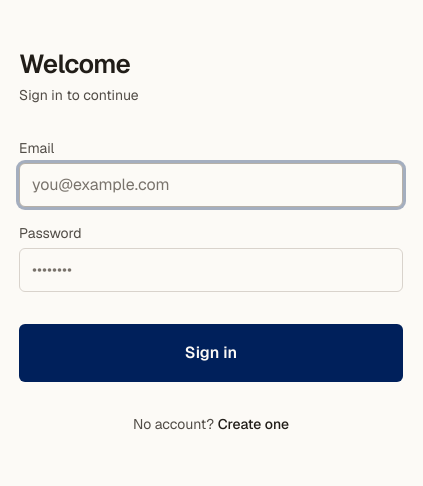
Test: Auth › shows validation error when fields are empty
Click the button "Sign in".
click(211, 353)  # box [19, 324, 403, 382]
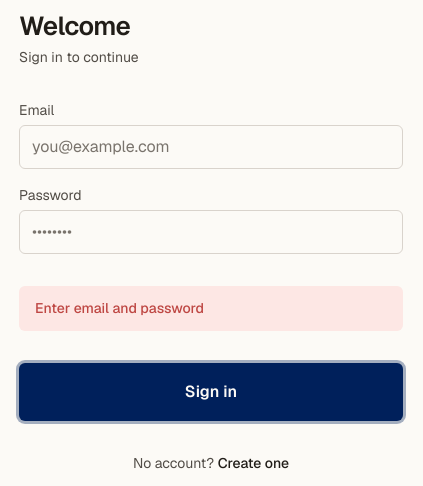
Expected: the text "Enter email and password" is shown, [19, 286, 403, 330]
